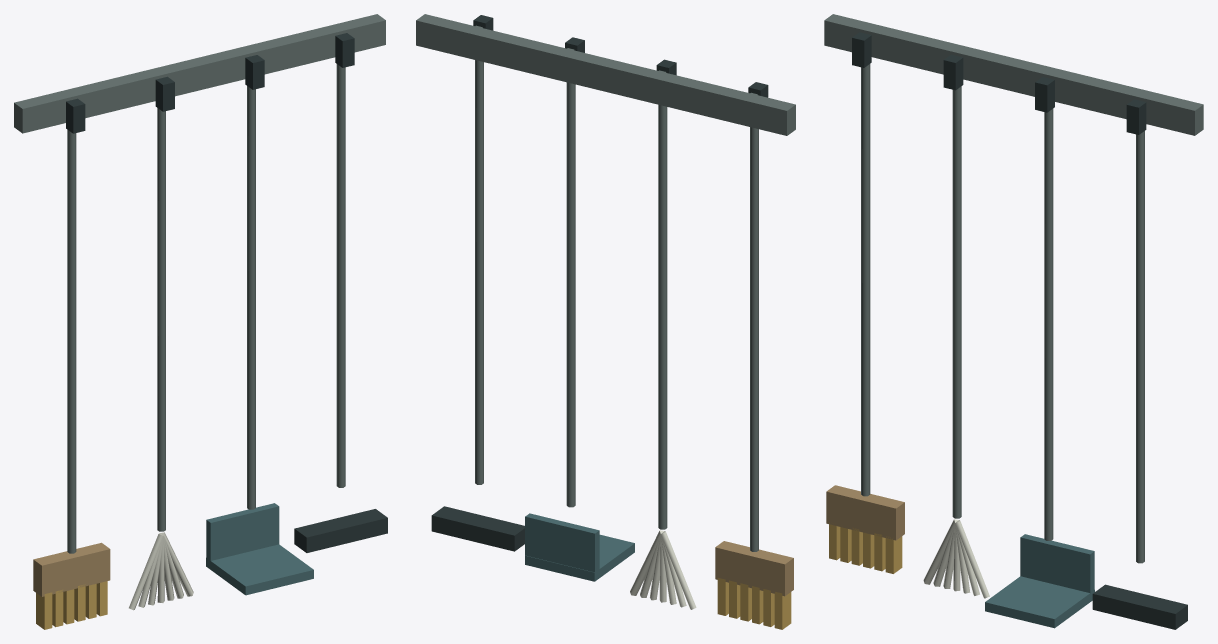
File: legacy-190.glb
3 renders of one model, left to right at view 1: azimuth 30°, elevation 25°; view 2: azimuth 150°, elevation 25°; view 3: azimuth 330°, elevation 25°, orthographic. The views are drawn at different scales.
Visible parts, largest first — view 1: part-1, part-2, part-24, part-11, part-20, part-22, part-23, part-4, part-26, part-25, part-3, part-12 (+3 smaller); view 2: part-1, part-20, part-11, part-24, part-2, part-23, part-4, part-26, part-22, part-5, part-13; view 3: part-1, part-2, part-20, part-11, part-24, part-22, part-23, part-4, part-26, part-25, part-12, part-3 (+3 smaller).
Part boxes in pixels (<box>): part-1: <box>14,14,385,133</box>; part-2: <box>67,130,76,553</box>; part-24: <box>336,64,345,487</box>; part-11: <box>157,108,165,531</box>; part-20: <box>247,86,255,509</box>; part-22: <box>206,544,313,595</box>; part-23: <box>206,503,279,561</box>; part-4: <box>33,542,110,596</box>; part-26: <box>294,509,387,552</box>; part-25: <box>335,33,354,67</box>; part-3: <box>66,98,85,133</box>; part-12: <box>155,76,174,111</box>; part-1: <box>416,14,795,135</box>; part-20: <box>566,48,575,507</box>; part-11: <box>658,70,667,529</box>; part-24: <box>475,25,483,484</box>; part-2: <box>750,92,758,551</box>; part-23: <box>525,513,599,572</box>; part-4: <box>715,541,793,596</box>; part-26: <box>431,506,524,551</box>; part-22: <box>525,534,634,581</box>; part-5: <box>774,592,791,629</box>; part-13: <box>661,531,696,609</box>; part-1: <box>824,14,1203,135</box>; part-2: <box>861,64,870,496</box>; part-20: <box>1044,109,1053,540</box>; part-11: <box>952,86,961,518</box>; part-24: <box>1136,131,1144,563</box>; part-22: <box>985,576,1094,628</box>; part-23: <box>1020,534,1094,592</box>; part-4: <box>826,485,904,540</box>; part-26: <box>1092,584,1187,629</box>; part-25: <box>1126,99,1146,134</box>; part-12: <box>943,54,963,90</box>; part-3: <box>852,32,871,67</box>.
Bounding box in the file's own units: 0.85 × 1.17 × 0.1675.
